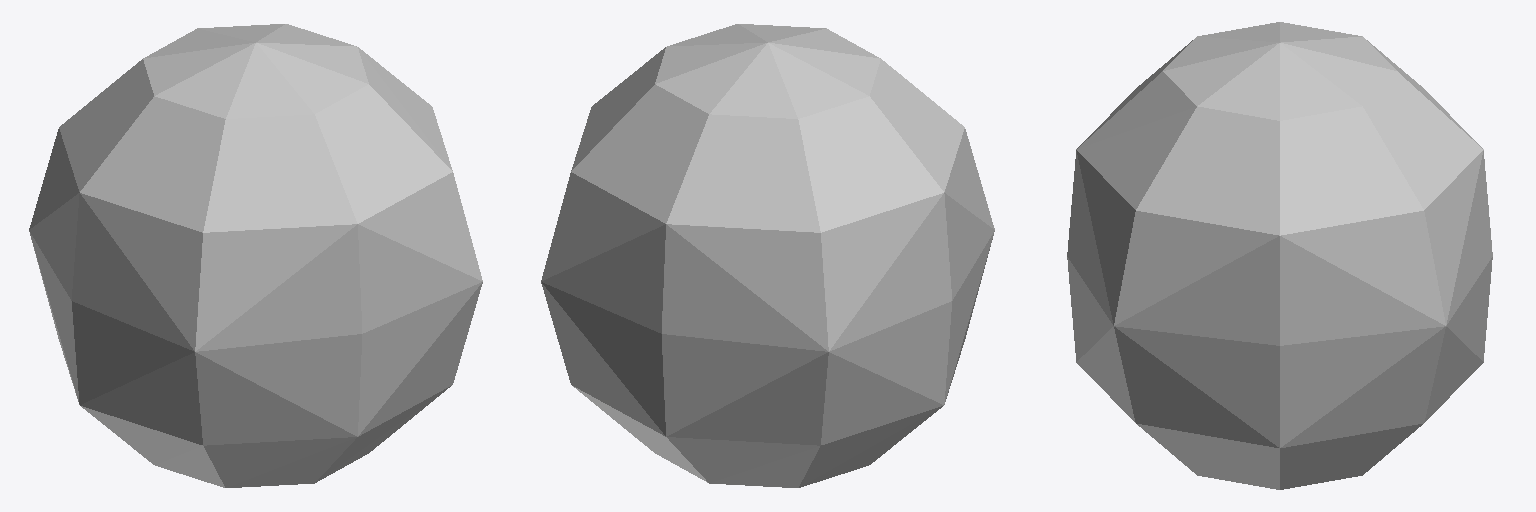
The model's file is SharpClaw Bomb.obj.
The picture shows the model from 3 angles: view 1: azimuth 30°, elevation 25°; view 2: azimuth 150°, elevation 25°; view 3: azimuth 270°, elevation 25°; orthographic projection.
Parts seen in each view (by area): view 1: MODELS_bin_065:poly000; view 2: MODELS_bin_065:poly000; view 3: MODELS_bin_065:poly000.
Part boxes in pixels (bbox=[...]): MODELS_bin_065:poly000: bbox=[29, 24, 482, 487]; MODELS_bin_065:poly000: bbox=[541, 24, 994, 487]; MODELS_bin_065:poly000: bbox=[1067, 22, 1492, 489].
Bounding box in the file's own units: 2.35 × 2.6 × 2.35.